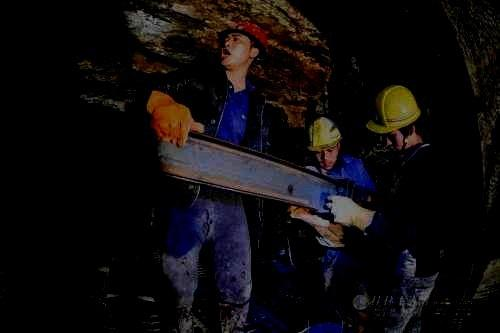helmet: (364, 83, 421, 150), (218, 20, 268, 67), (306, 117, 342, 170)
